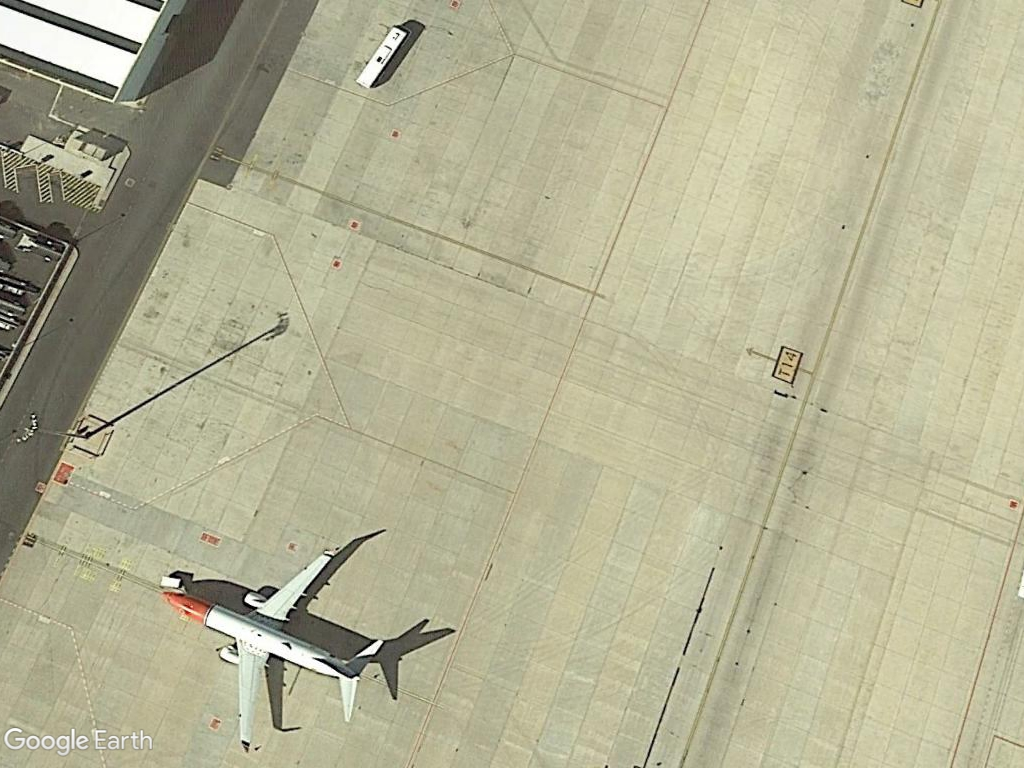airliner: (146, 534, 392, 754)
bus: (351, 17, 412, 96)
